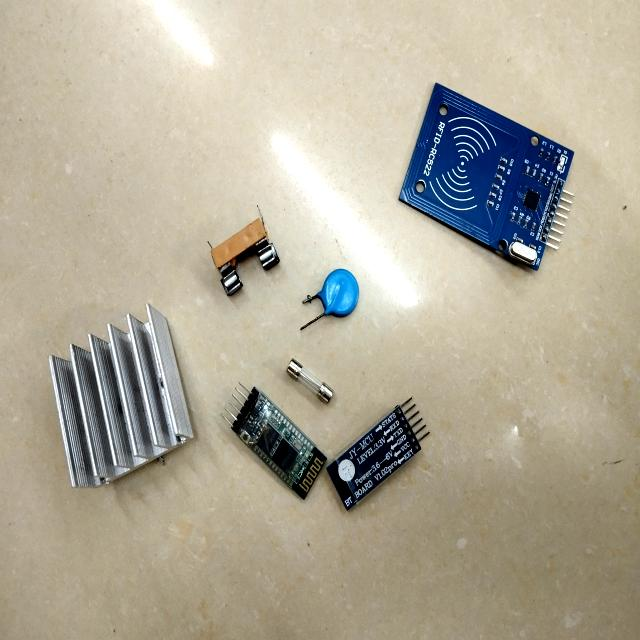capacitor: (319, 269, 359, 318)
